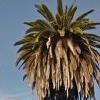Palm tree: (22, 4, 97, 98)
